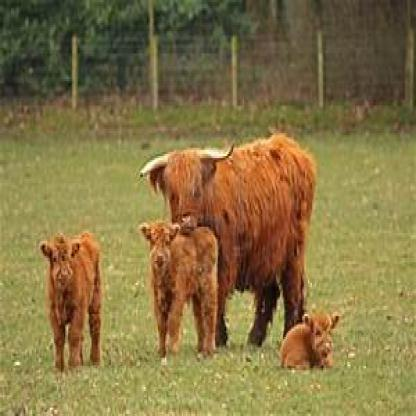cow: (140, 131, 316, 349), (136, 222, 220, 360), (40, 229, 106, 370), (275, 316, 337, 370)
